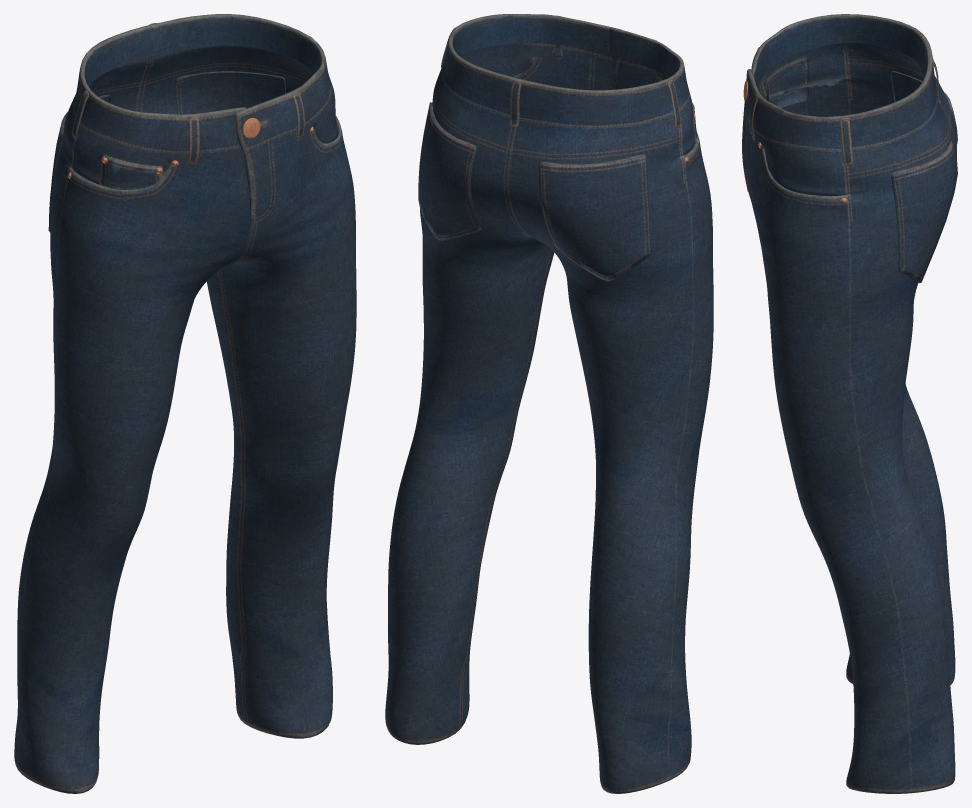
File: jeans.glb
3 views of the same model, side by side, from view 1: azimuth 30°, elevation 25°; view 2: azimuth 150°, elevation 25°; view 3: azimuth 270°, elevation 25° (orthographic). The views are drawn at different scales.
Visible parts, largest first — view 1: Cube.004_Trousers3_0; view 2: Cube.004_Trousers3_0; view 3: Cube.004_Trousers3_0.
Boxes of the visible parts, left/top/right/bottom form: Cube.004_Trousers3_0: left=14, top=14, right=356, bottom=793; Cube.004_Trousers3_0: left=385, top=14, right=713, bottom=793; Cube.004_Trousers3_0: left=742, top=14, right=957, bottom=793.
Bounding box in the file's own units: 2.52 × 5.72 × 1.66.
1 material, 1 textured.
